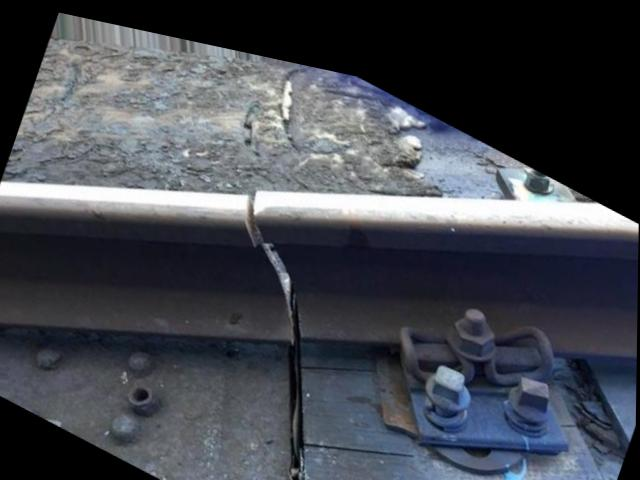person: (155, 110, 386, 367)
